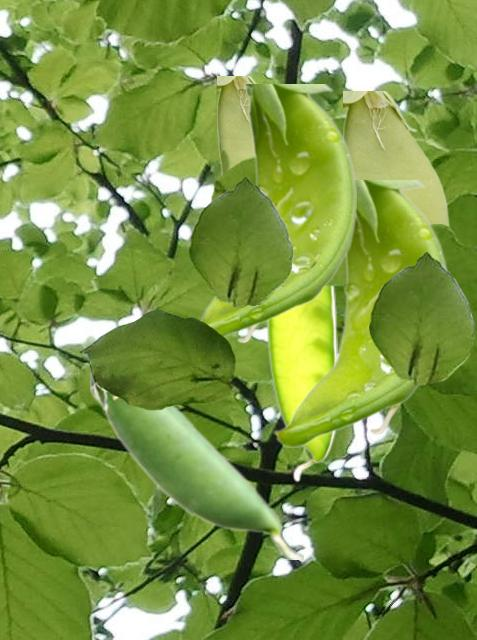pea: (272, 180, 448, 446), (90, 370, 302, 558), (199, 84, 355, 337), (343, 91, 452, 434), (264, 287, 336, 481), (217, 76, 257, 342)
